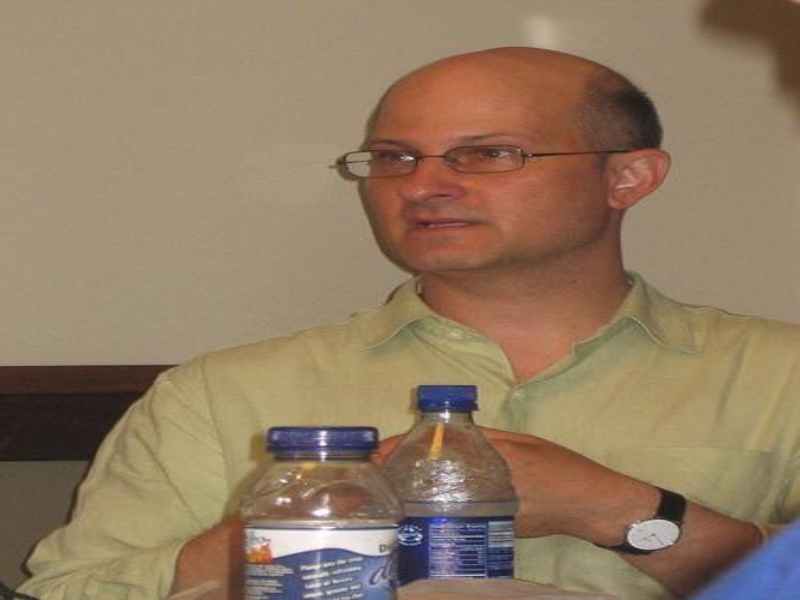face: (359, 43, 568, 277)
